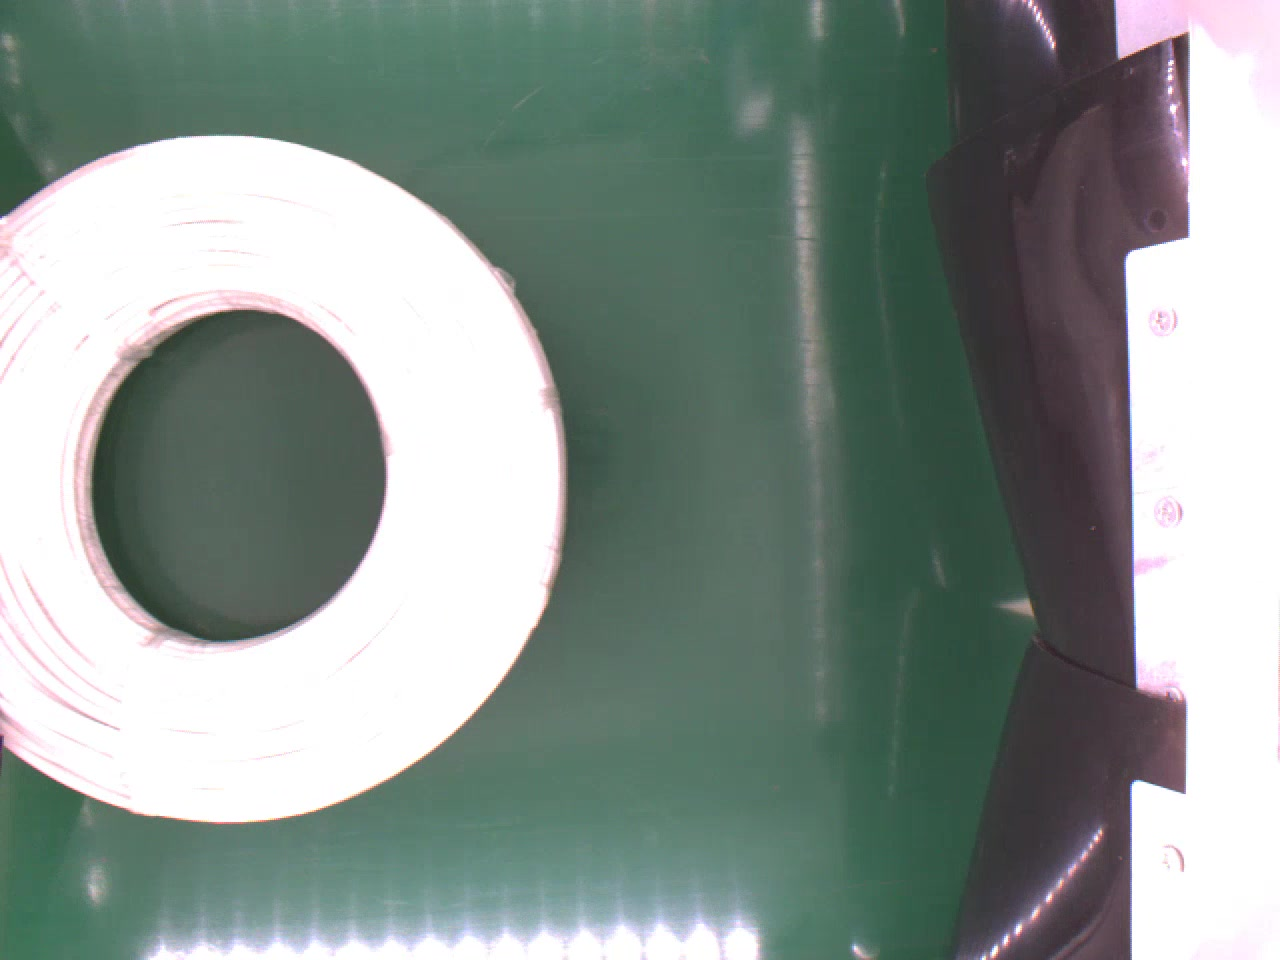white: (0, 128, 564, 830)
